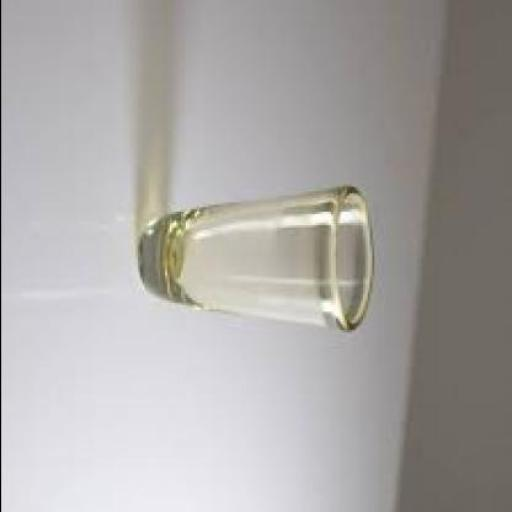glass: (139, 189, 375, 334)
